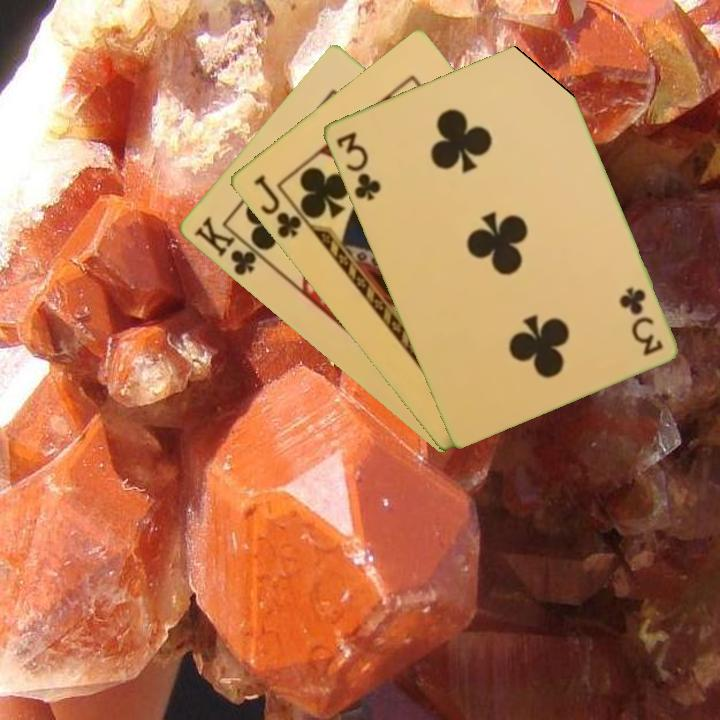3c: (332, 127, 384, 203), (616, 283, 665, 359)
Jc: (249, 171, 304, 242)
Kc: (190, 213, 268, 279)
